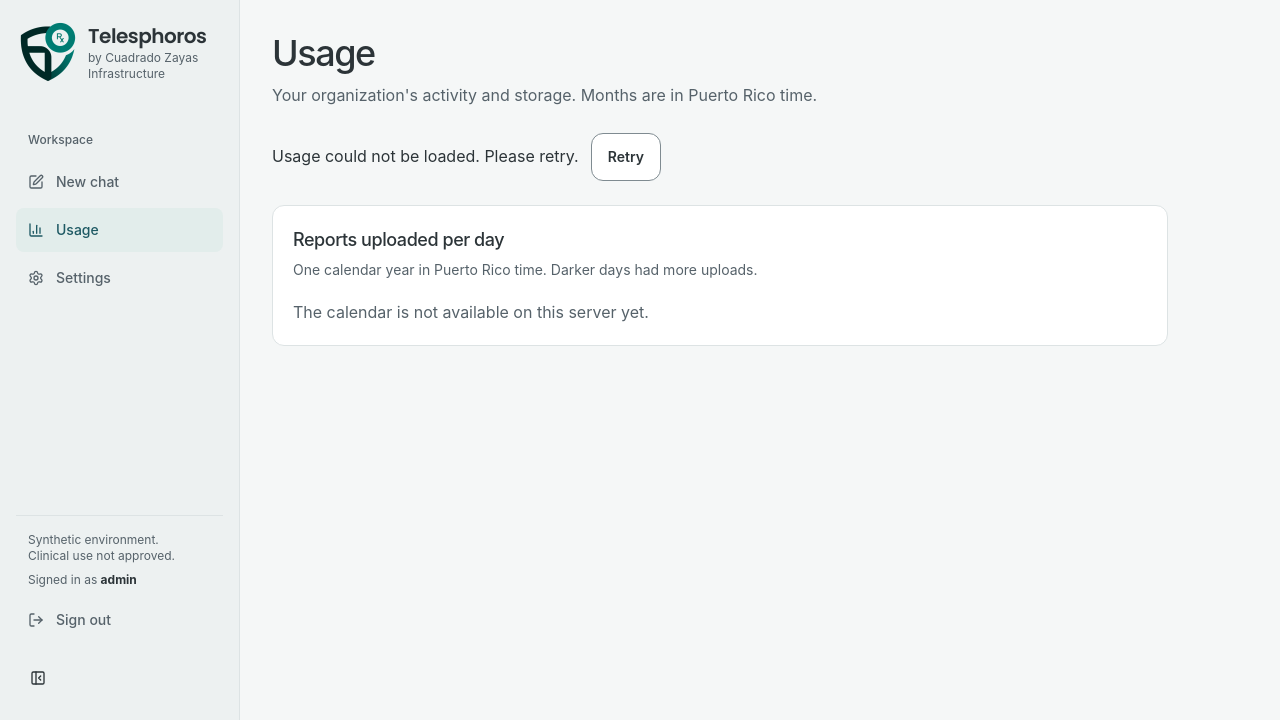
Test: Usage › says so and offers a Retry that works when loading fails
Expected: the message shows "Usage could not be loaded", [272,146,579,166]
What coordinates should you click on to do the following:
click the button "Retry"
I would click on:
 (626, 157)
Its box is [591,133,661,181].
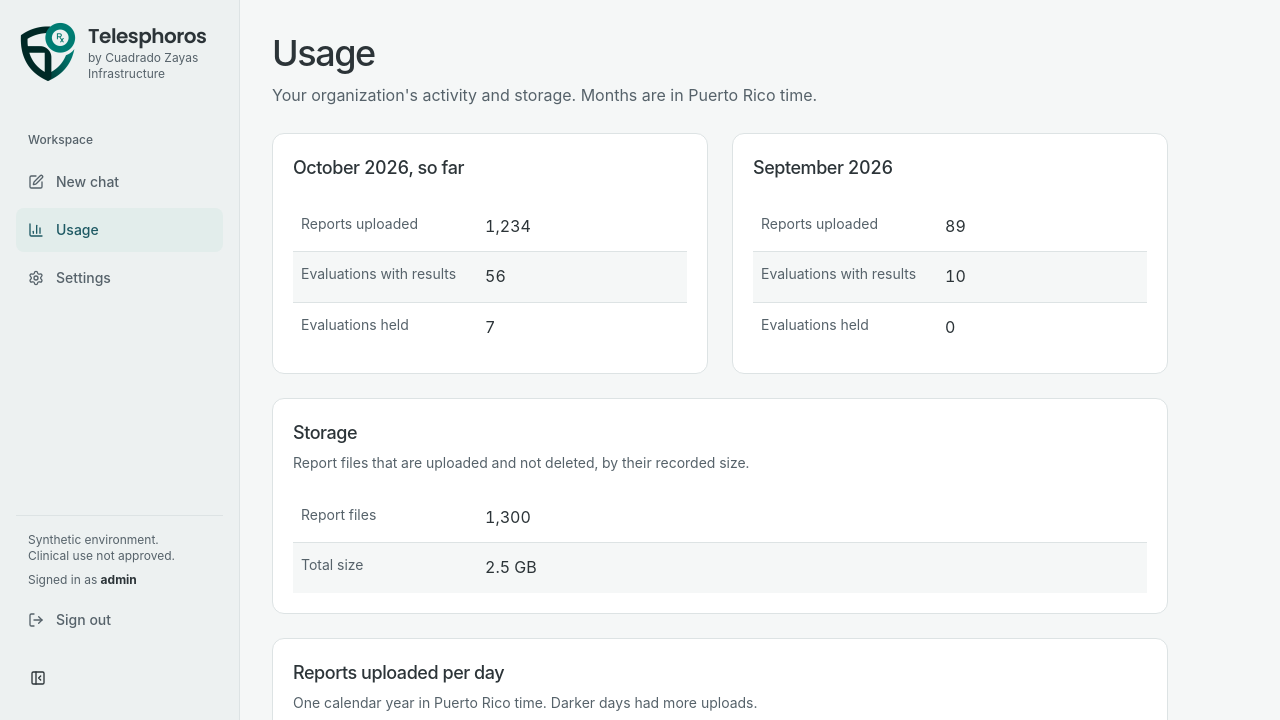
Expected: the element "Storage" is shown, [272,398,1168,614]
